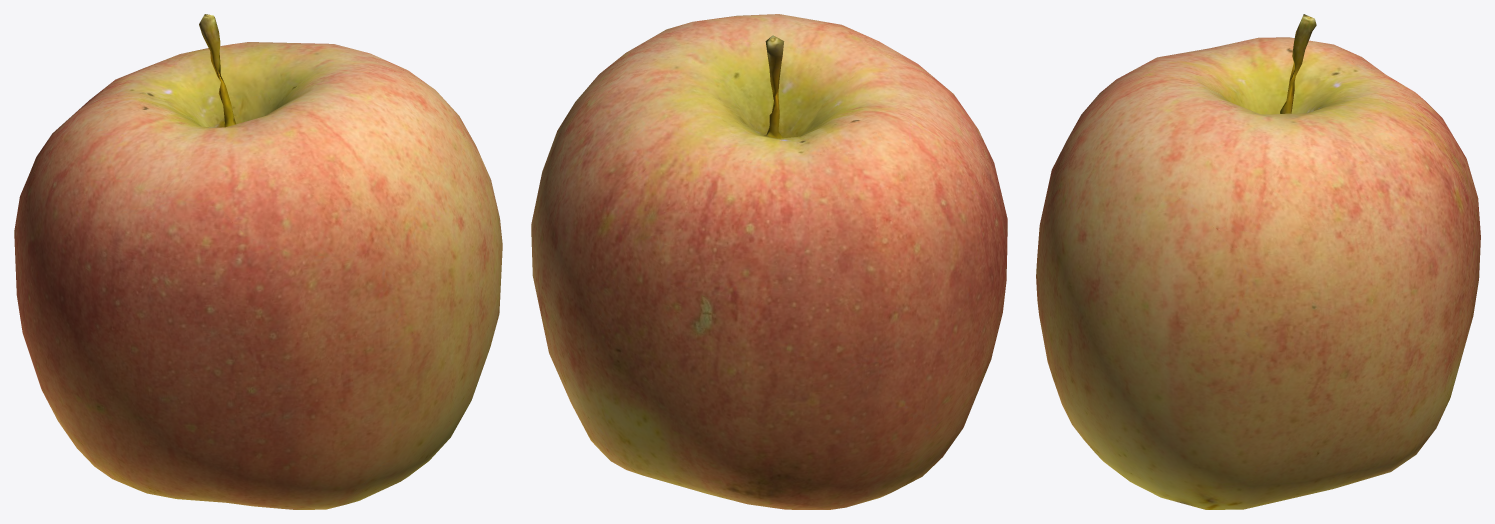
The model's file is apple1.fbx.
3 views of the same model, side by side, from view 1: azimuth 30°, elevation 25°; view 2: azimuth 150°, elevation 25°; view 3: azimuth 270°, elevation 25° (orthographic). The views are drawn at different scales.
Visible parts, largest first — view 1: apple01_lr; view 2: apple01_lr; view 3: apple01_lr.
Part boxes in pixels (bbox=[...]): apple01_lr: bbox=[14, 14, 502, 509]; apple01_lr: bbox=[531, 14, 1007, 509]; apple01_lr: bbox=[1036, 14, 1480, 509].
Size of the model in its own units: 99.09 by 101 by 93.7.
